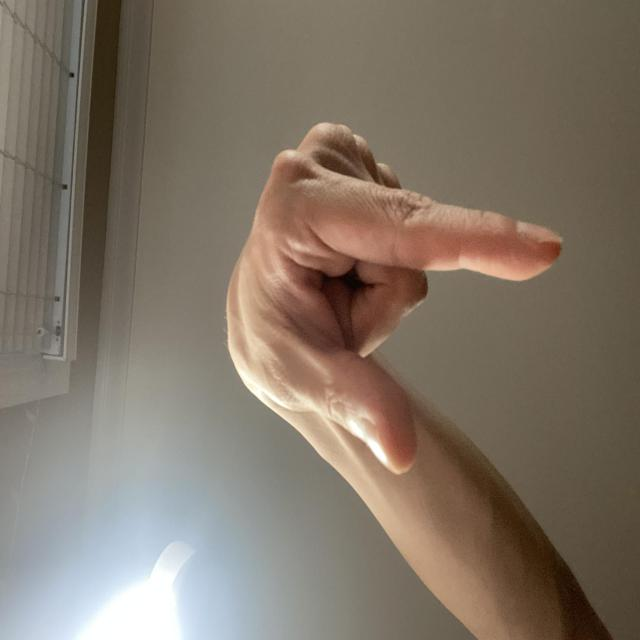Q: (116, 293, 394, 640)
